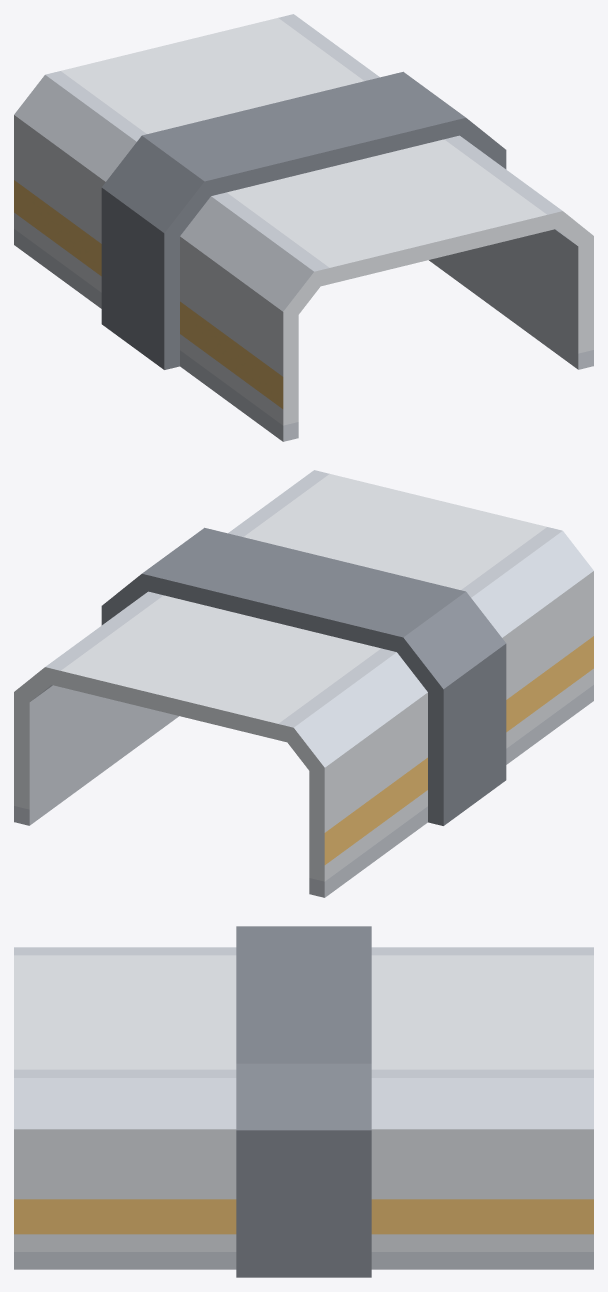
File: hangar_largeb_lev1.glb
3 views of the same model, one above another, from view 1: azimuth 30°, elevation 25°; view 2: azimuth 150°, elevation 25°; view 3: azimuth 270°, elevation 25° (orthographic). The views are drawn at different scales.
Visible parts, largest first — view 1: hangar_largeb_lev1; view 2: hangar_largeb_lev1; view 3: hangar_largeb_lev1.
Part boxes in pixels (x1,y1,x2,y2): hangar_largeb_lev1: (14,14,593,441); hangar_largeb_lev1: (14,470,593,897); hangar_largeb_lev1: (14,926,593,1277).
Size of the model in its own units: 2.2 by 1.1 by 3.
